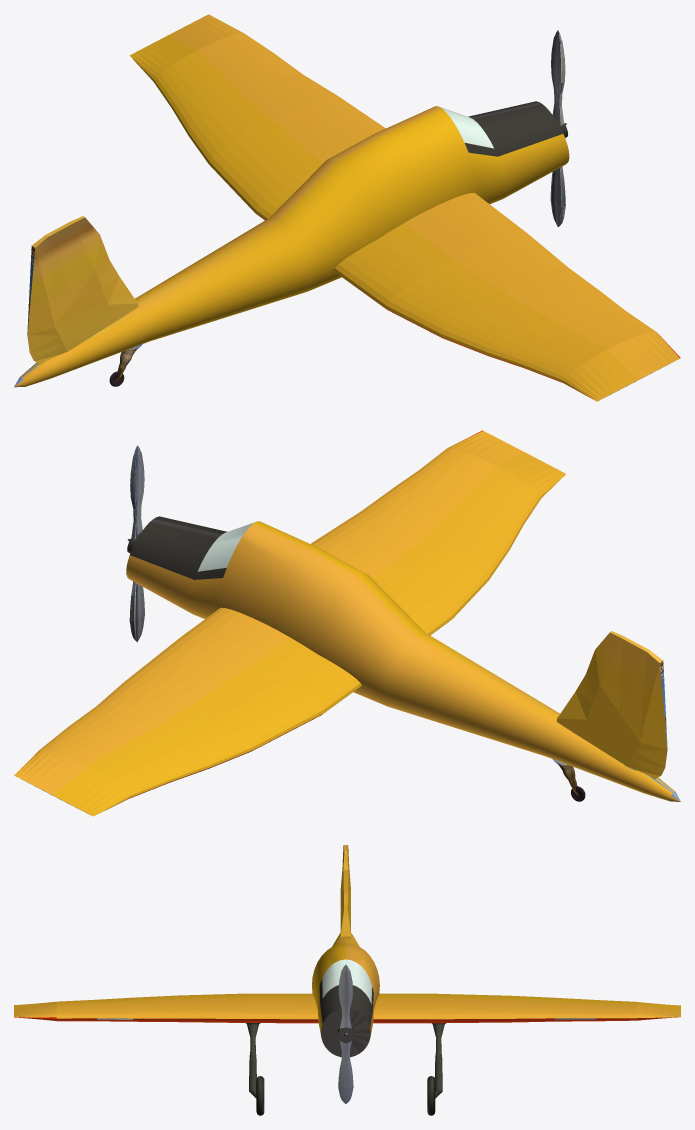
3 renders of one model, top to bottom at view 1: azimuth 30°, elevation 25°; view 2: azimuth 150°, elevation 25°; view 3: azimuth 270°, elevation 25°, orthographic. The views are drawn at different scales.
Parts seen in each view (by area): view 1: Flügel_Cylinder.002, Form_Cylinder, Propeller_Cube.002; view 2: Flügel_Cylinder.002, Form_Cylinder, Propeller_Cube.002; view 3: Flügel_Cylinder.002, Form_Cylinder, Rad2_Cylinder.003, Propeller_Cube.002.
Boxes of the visible parts, x1,y1,x2,y2 form: Flügel_Cylinder.002: (129, 14, 680, 401); Form_Cylinder: (14, 101, 569, 387); Propeller_Cube.002: (550, 30, 565, 226); Flügel_Cylinder.002: (14, 430, 565, 816); Form_Cylinder: (126, 516, 680, 801); Propeller_Cube.002: (129, 445, 144, 641); Flügel_Cylinder.002: (14, 993, 680, 1023); Form_Cylinder: (312, 845, 379, 1057); Rad2_Cylinder.003: (246, 1023, 445, 1115); Propeller_Cube.002: (338, 964, 353, 1103).
Bounding box in the file's own units: 5.23 × 2.25 × 7.71.
